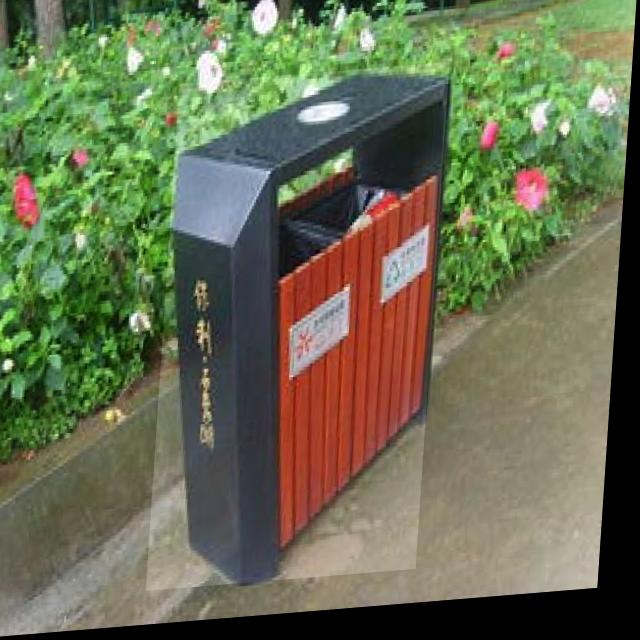garbage_bin: (154, 70, 451, 594)
